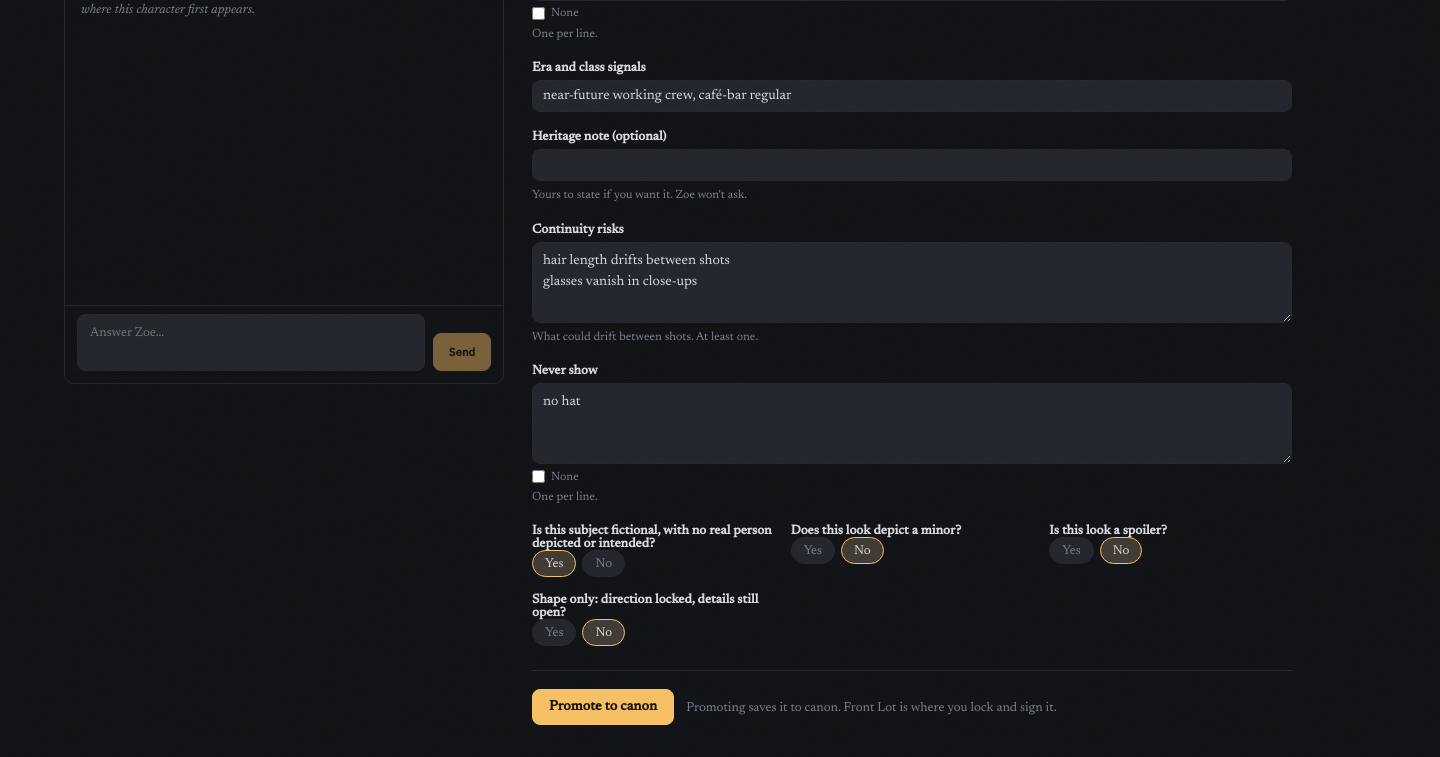
Test: Promote › a 409 says memory moved on and refreshes memory
(page scrolled)
Click the button "Promote to canon" at (603, 707), box [532, 689, 674, 725]
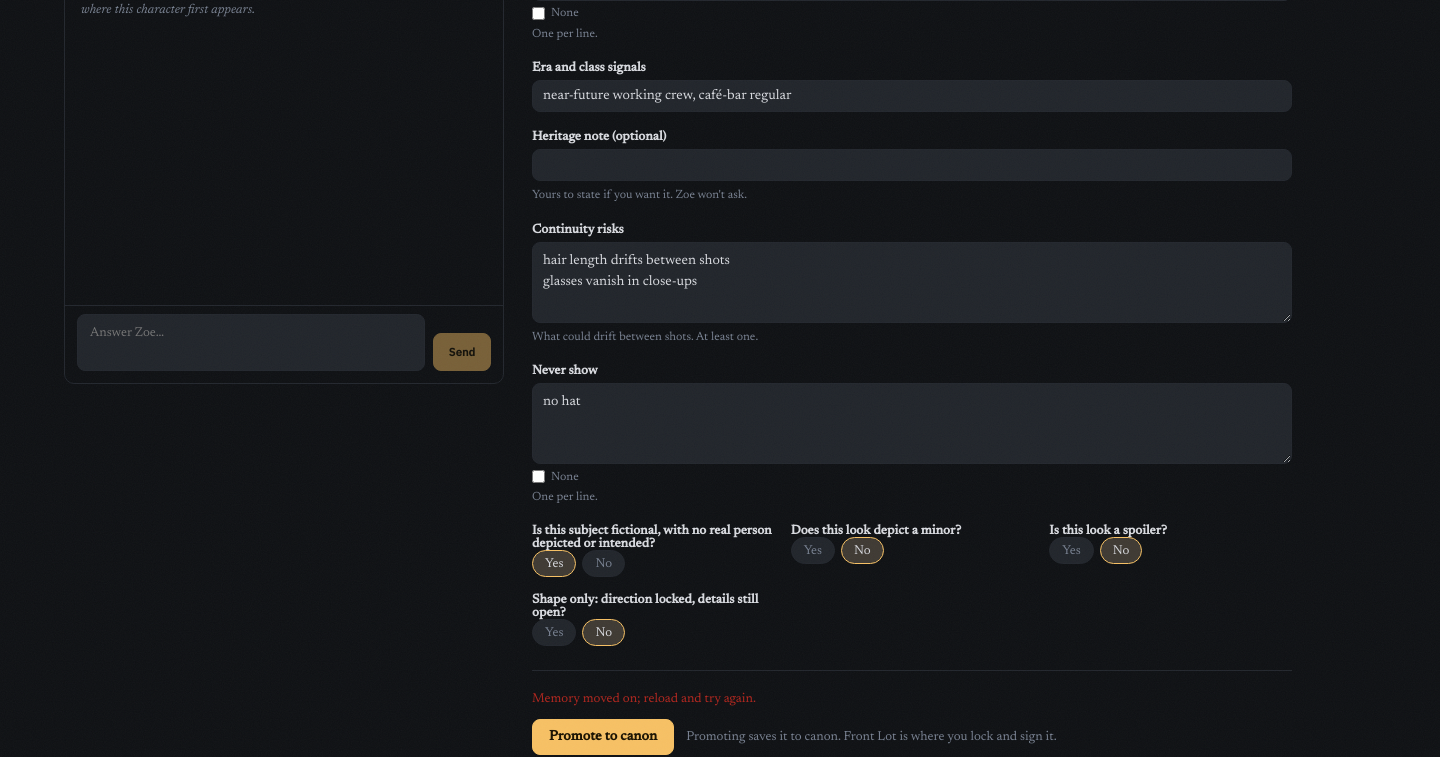
Check: the message reads "Memory moved on; reload and try again.", box [532, 692, 756, 705]
